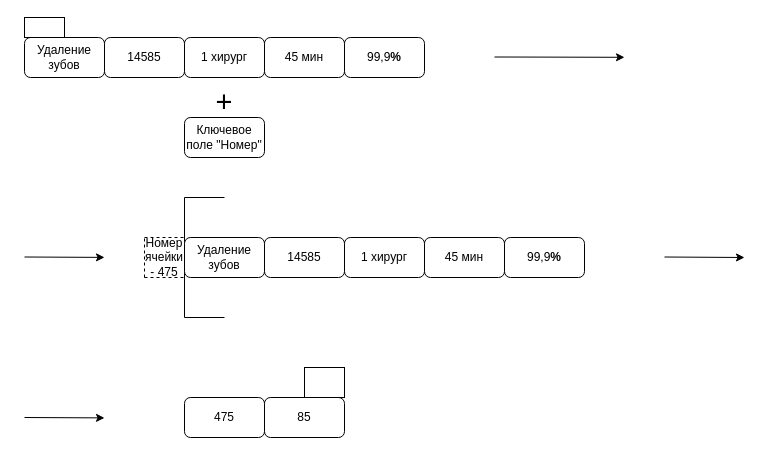
Some shapes in this 770 by 455 pixel diagram are drawn without their labels. The centre of each missing label's shape, as x and y in pixels:
ключ "номер": point 324,382
Операция: point 44,27
